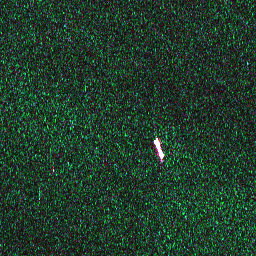ship: (151, 135, 167, 161)
